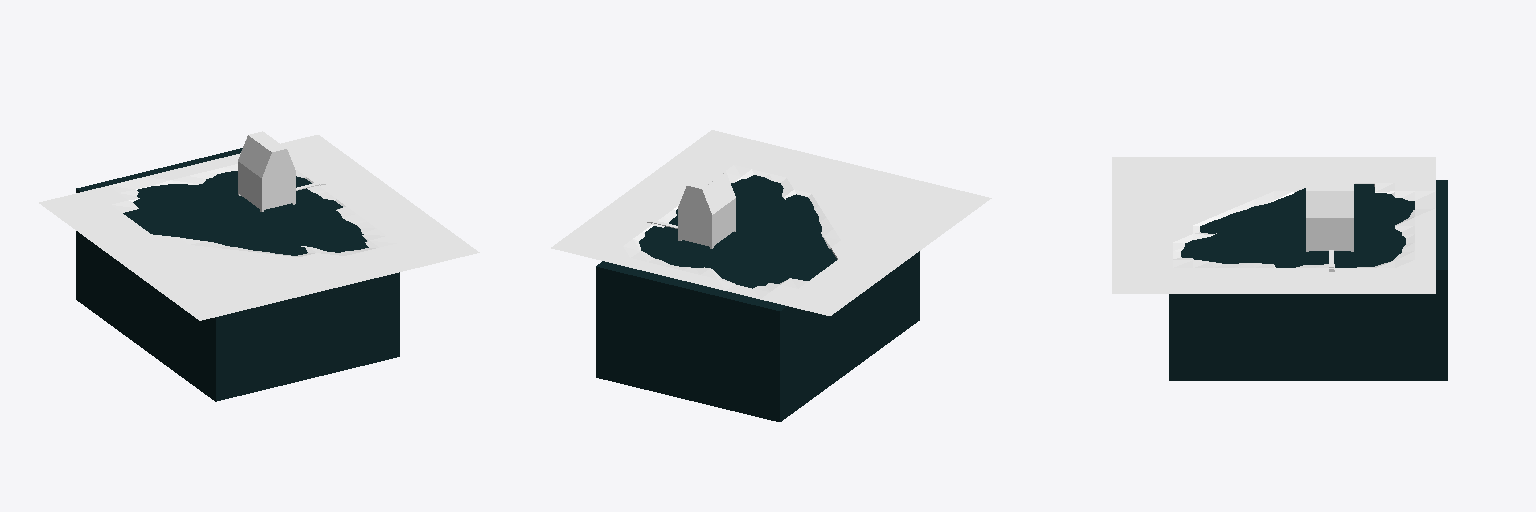
The model's file is riverhouse_source_scale.obj.
3 views of the same model, side by side, from view 1: azimuth 30°, elevation 25°; view 2: azimuth 150°, elevation 25°; view 3: azimuth 270°, elevation 25° (orthographic).
Parts seen in each view (by area): view 1: riverhouse_no_models; view 2: riverhouse_no_models; view 3: riverhouse_no_models.
Part boxes in pixels (x1,y1,x2,y2): riverhouse_no_models: (39,131,479,401); riverhouse_no_models: (551,130,991,421); riverhouse_no_models: (1112,157,1447,380).
Size of the model in its own units: 3008 by 1783 by 3123.